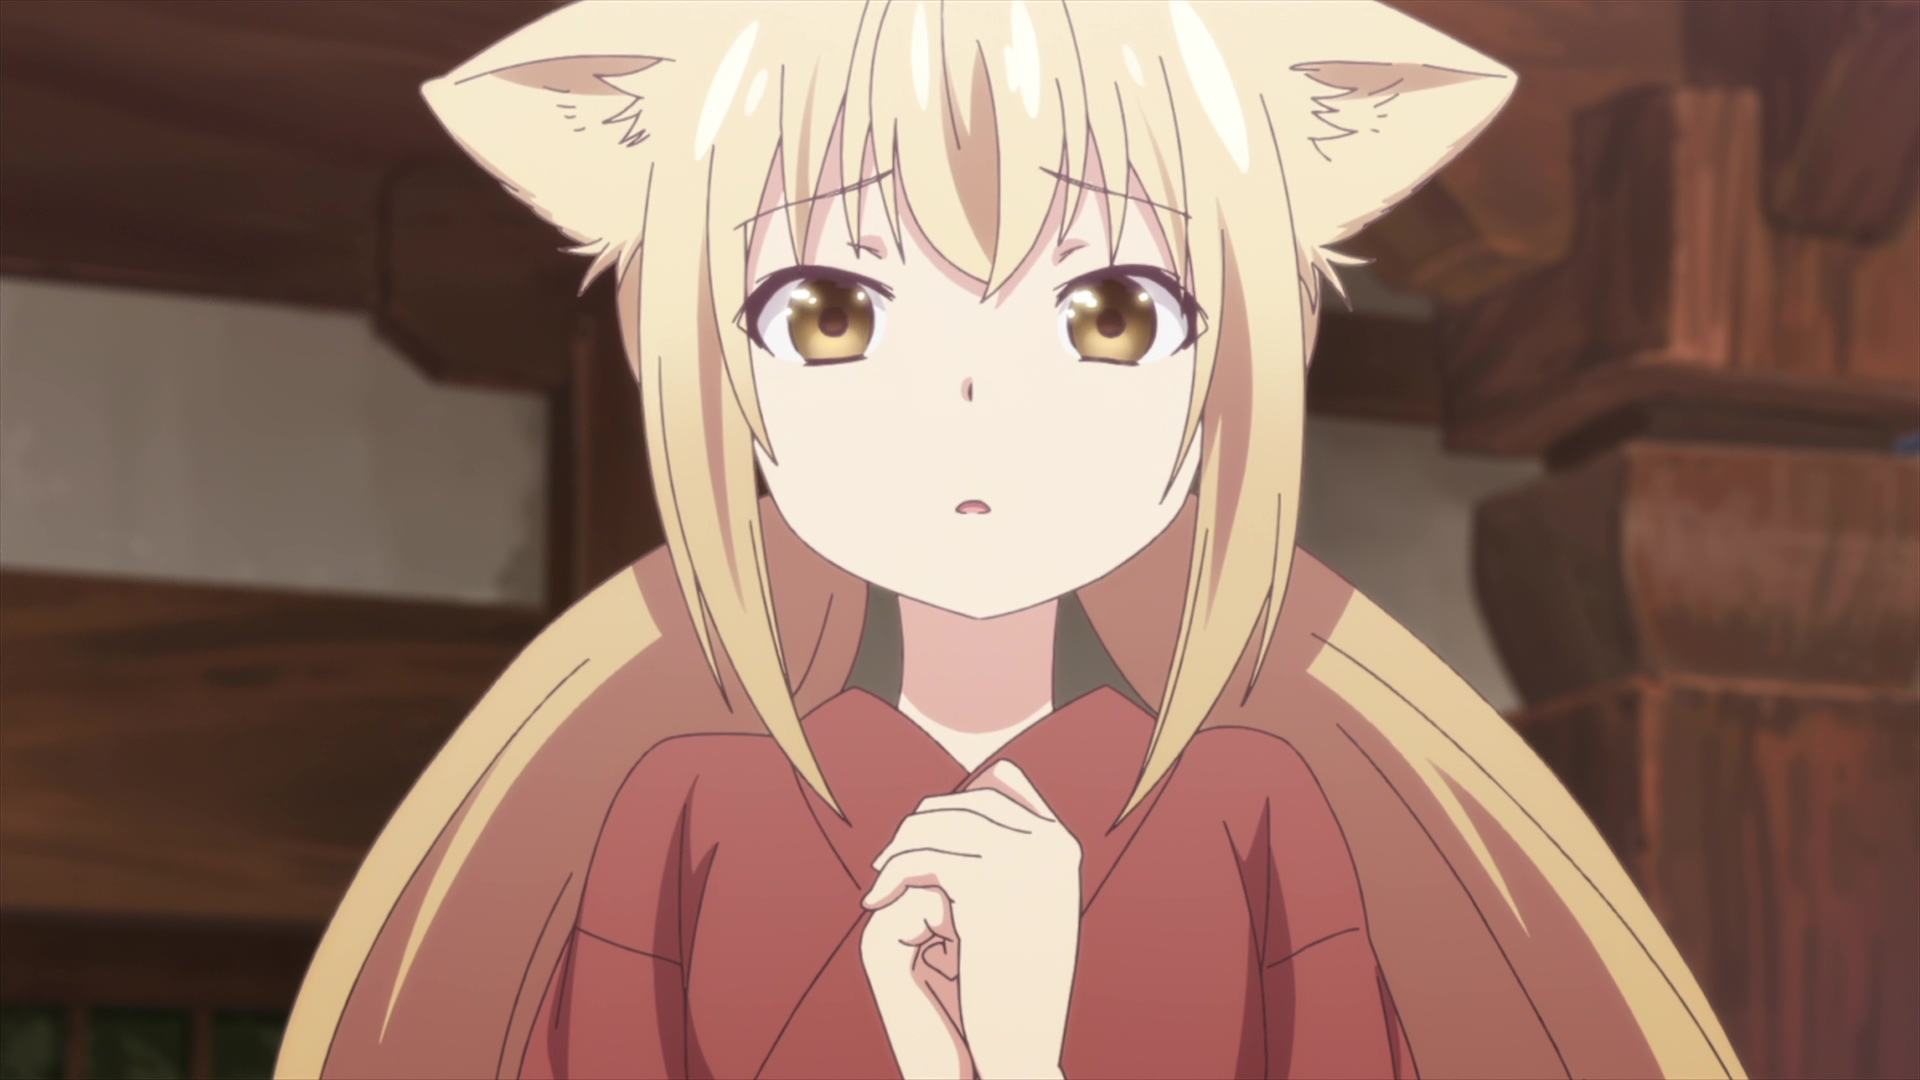柚: (276, 1, 1749, 1080)
